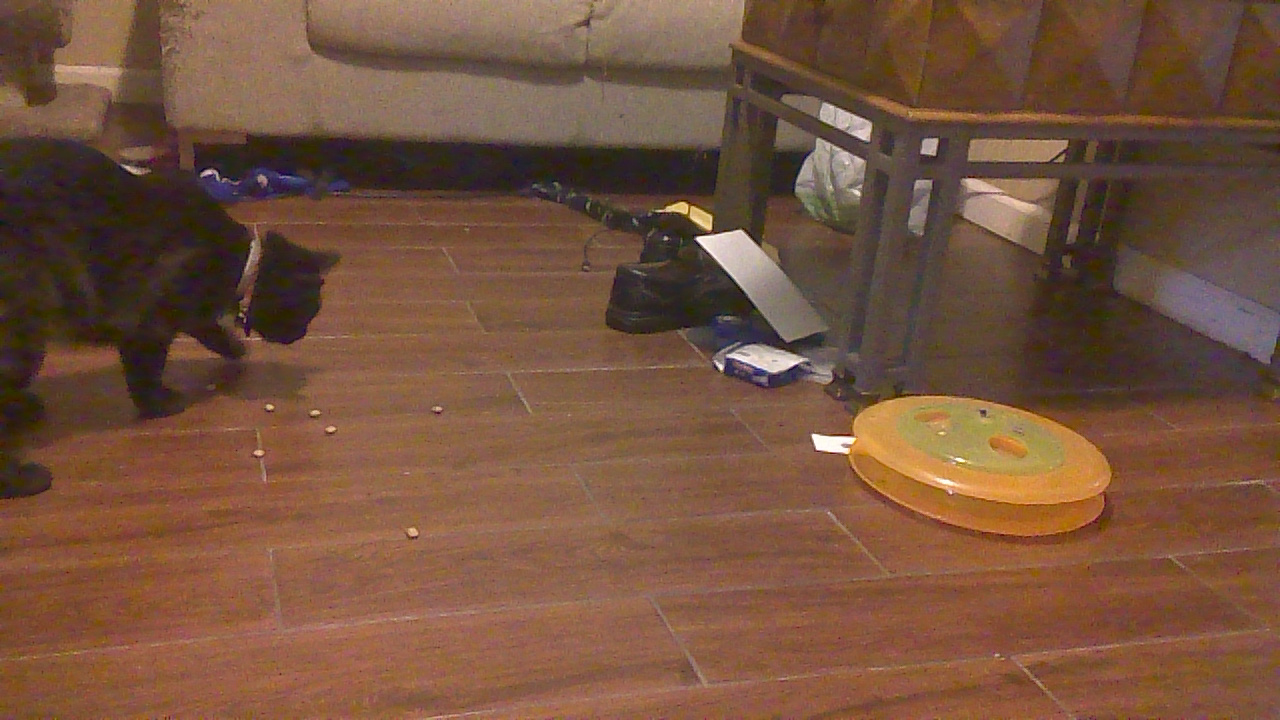cat: (1, 125, 352, 469)
